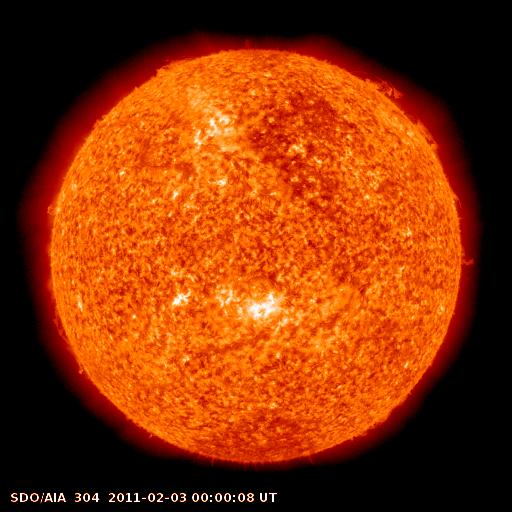prominence: (358, 64, 452, 163), (38, 277, 89, 379), (442, 181, 481, 276), (149, 43, 224, 81), (35, 187, 68, 222)
